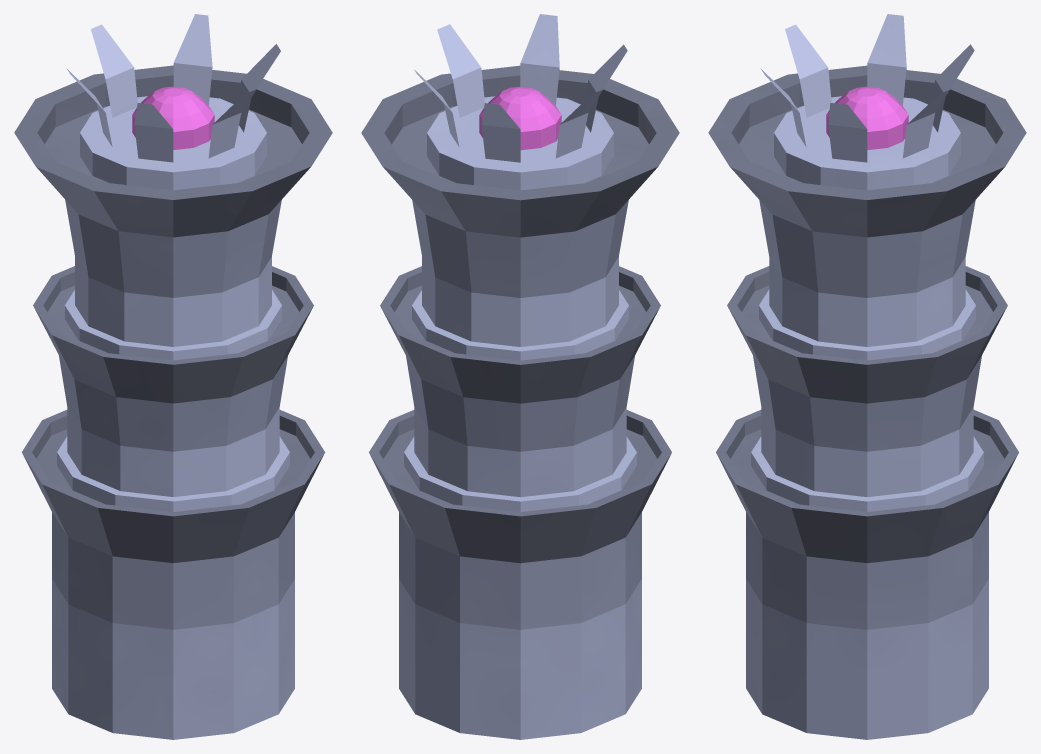
File: torre.fbx
3 renders of one model, left to right at view 1: azimuth 30°, elevation 25°; view 2: azimuth 150°, elevation 25°; view 3: azimuth 270°, elevation 25°, orthographic.
Parts seen in each view (by area): view 1: torre; view 2: torre; view 3: torre.
Part boxes in pixels (box(x1,y1,x2,y2)): torre: box(14, 14, 332, 739); torre: box(361, 14, 679, 739); torre: box(708, 14, 1026, 739).
Bounding box in the file's own units: 227 × 496 × 227.
Materials: 1 (1 with a texture image).
